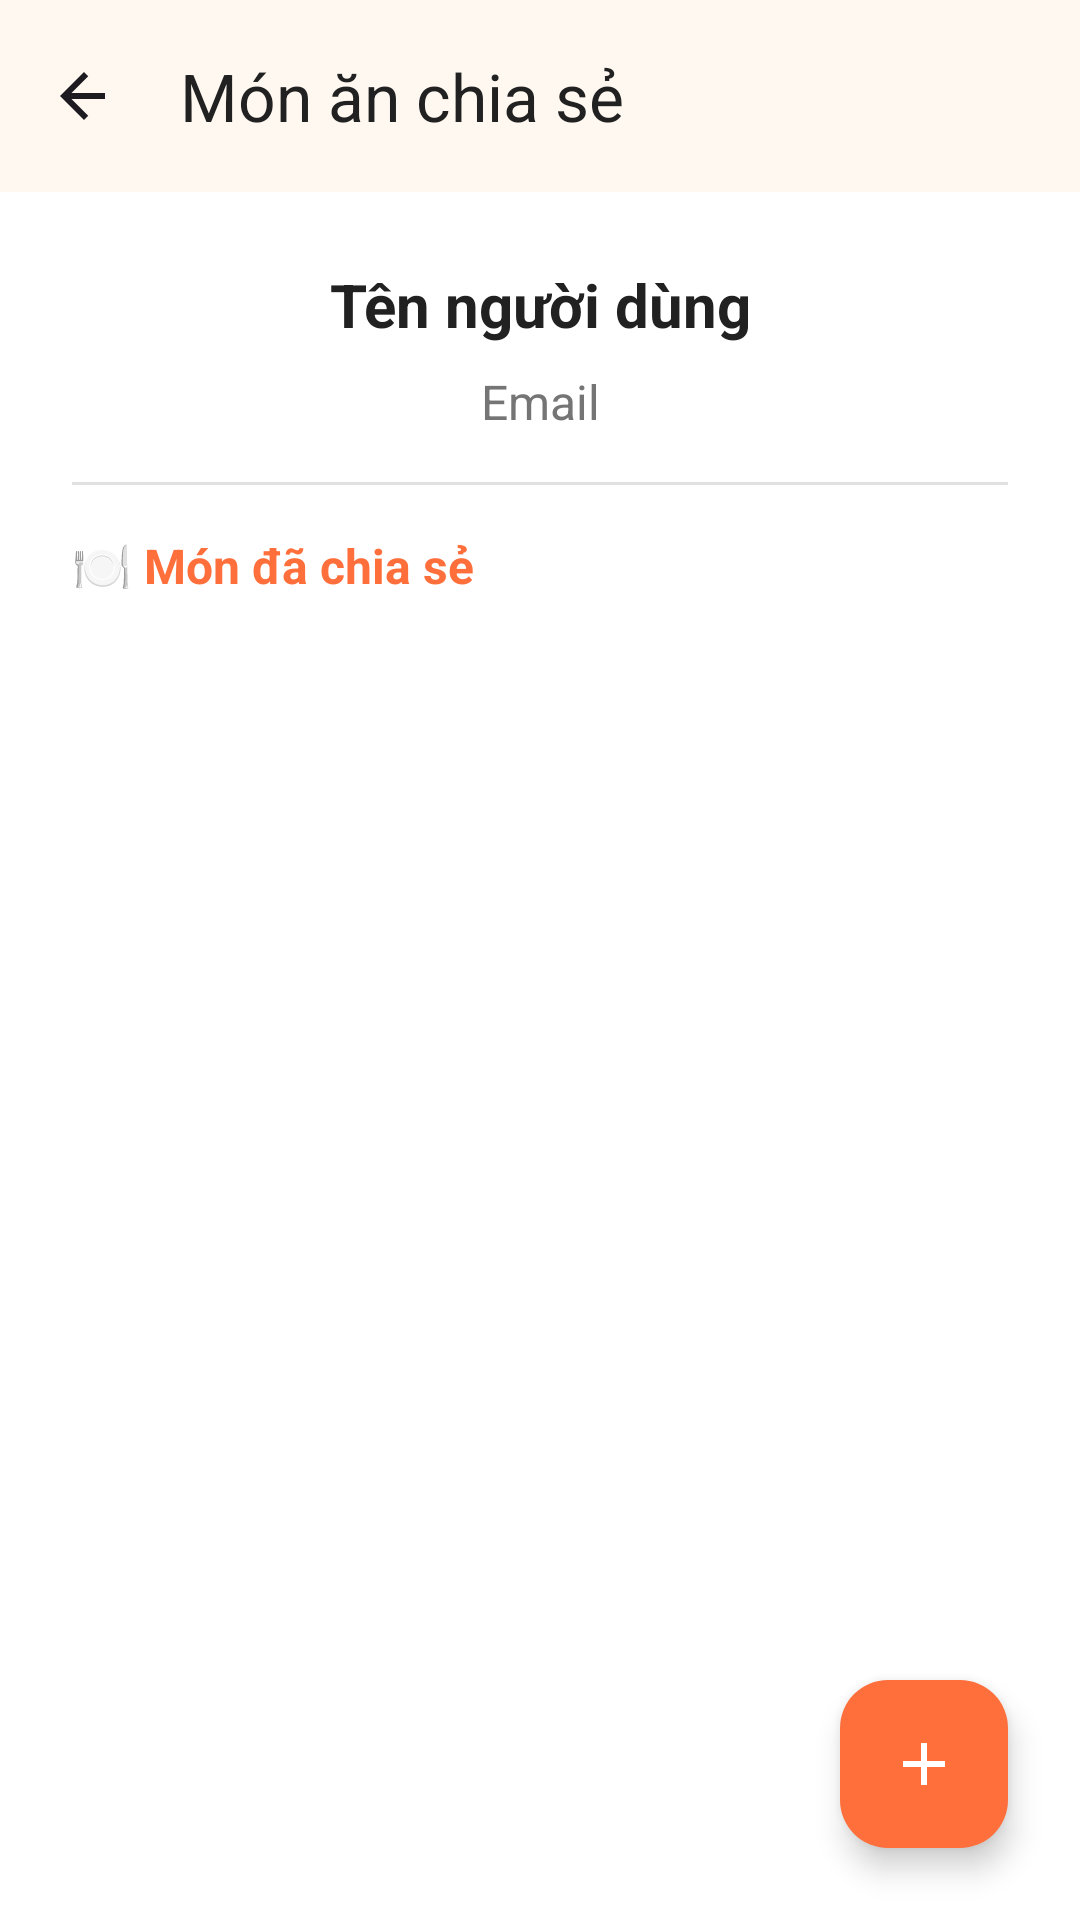

Icons on this 1080*1920 Android screen, each with the point to tap as (x,y):
Tạo bài chia sẻ mới: (924,1764)
